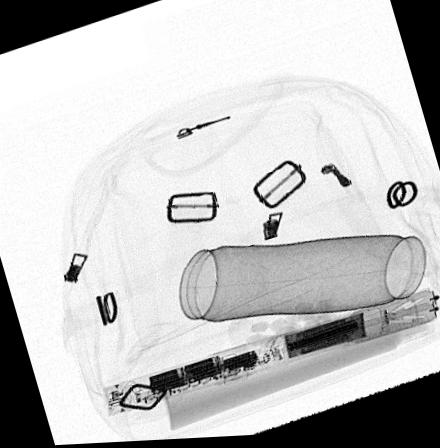Baton: (101, 291, 440, 418)
